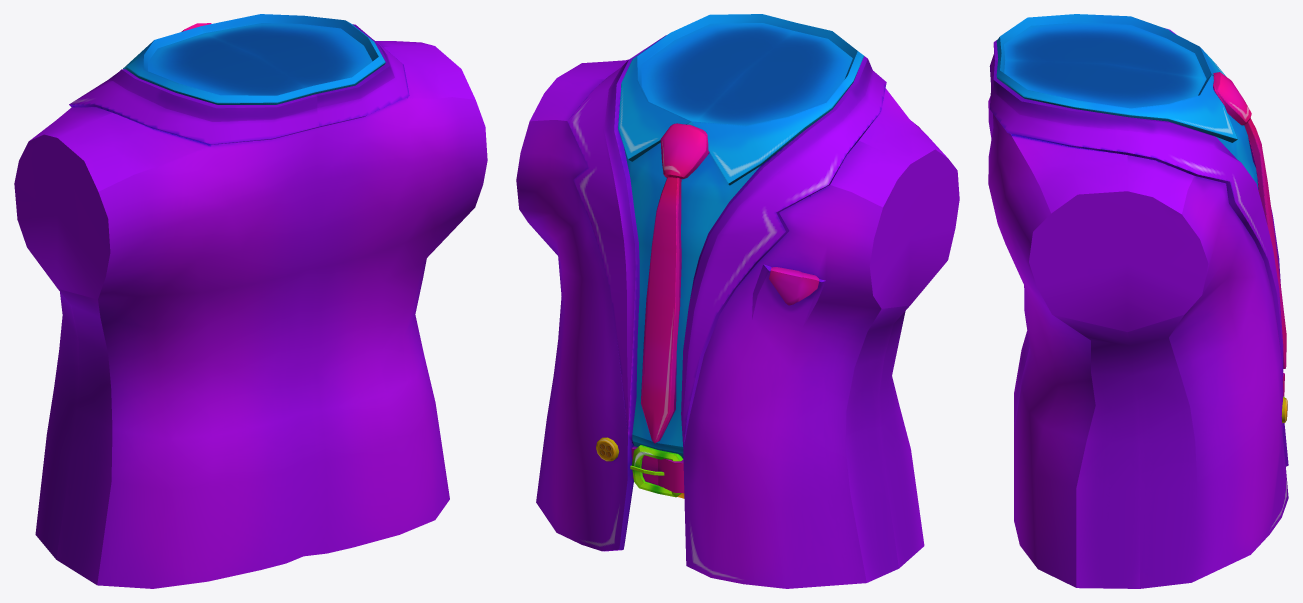
3 renders of one model, left to right at view 1: azimuth 30°, elevation 25°; view 2: azimuth 150°, elevation 25°; view 3: azimuth 270°, elevation 25°, orthographic. The views are drawn at different scales.
Visible parts, largest first — view 1: Mesh; view 2: Mesh; view 3: Mesh.
Part boxes in pixels (bbox=[...]): Mesh: bbox=[14, 14, 487, 588]; Mesh: bbox=[516, 14, 959, 588]; Mesh: bbox=[988, 14, 1288, 588].
Size of the model in its own units: 1.92 by 2.37 by 1.41.
